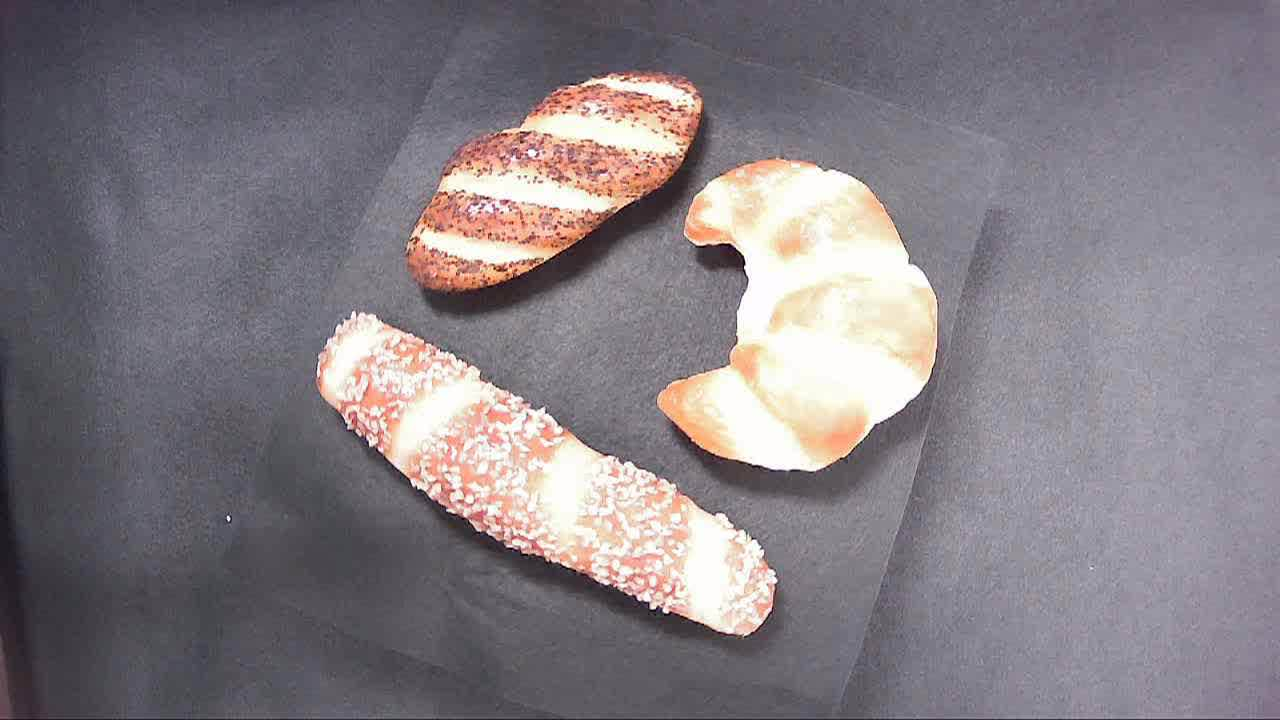cow: (656, 194, 944, 472), (683, 154, 944, 285)
long: (313, 308, 650, 538), (431, 477, 796, 645)
slash: (401, 66, 681, 303), (576, 48, 709, 175)
